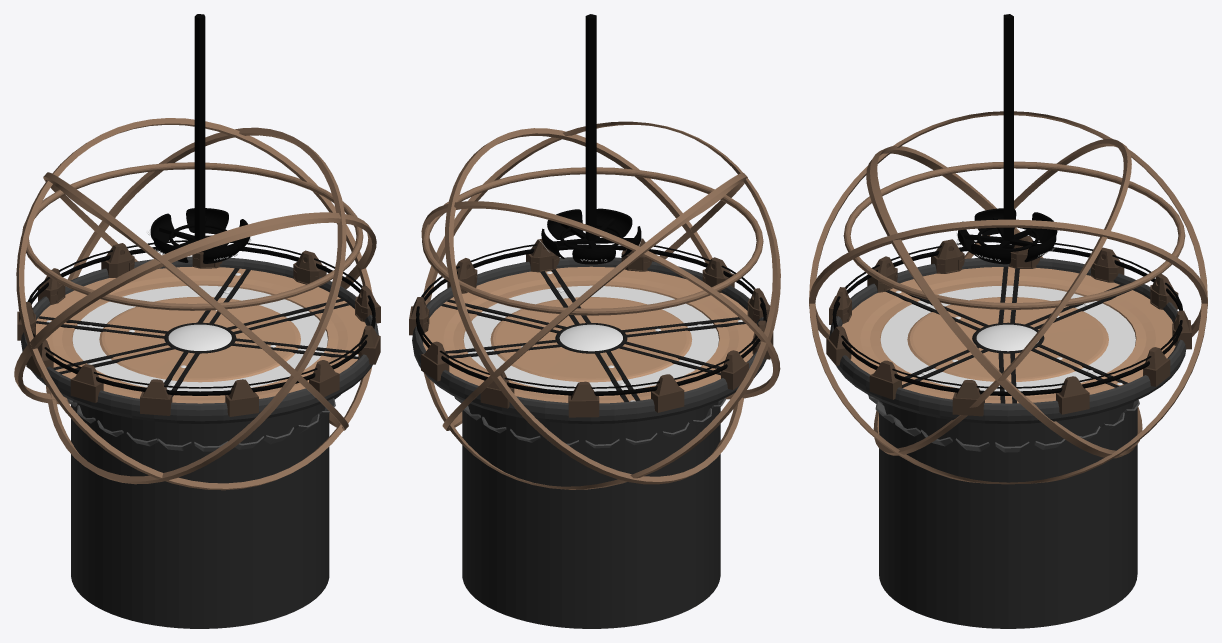
File: Martina_Arena_textured.fbx
3 views of the same model, side by side, from view 1: azimuth 30°, elevation 25°; view 2: azimuth 150°, elevation 25°; view 3: azimuth 270°, elevation 25° (orthographic).
Parts seen in each view (by area): view 1: Arena1; view 2: Arena1; view 3: Arena1.
Part boxes in pixels (x1=…): Arena1: x1=14, y1=14, x2=380, y2=628; Arena1: x1=409, y1=14, x2=780, y2=628; Arena1: x1=809, y1=14, x2=1207, y2=628.
Size of the model in its own units: 2609 by 4422 by 2697.
